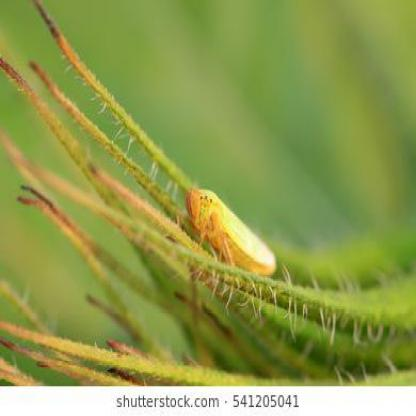Green-Leafhopper: (181, 181, 278, 280)
